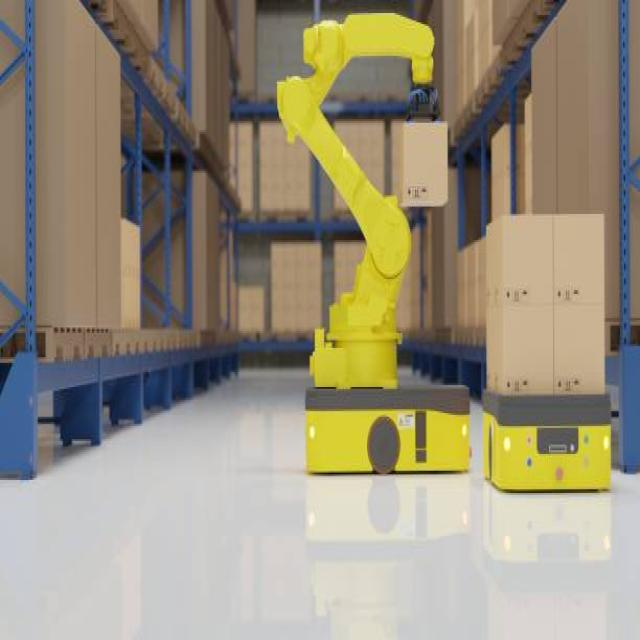Robotic-arm: (274, 11, 440, 393)
